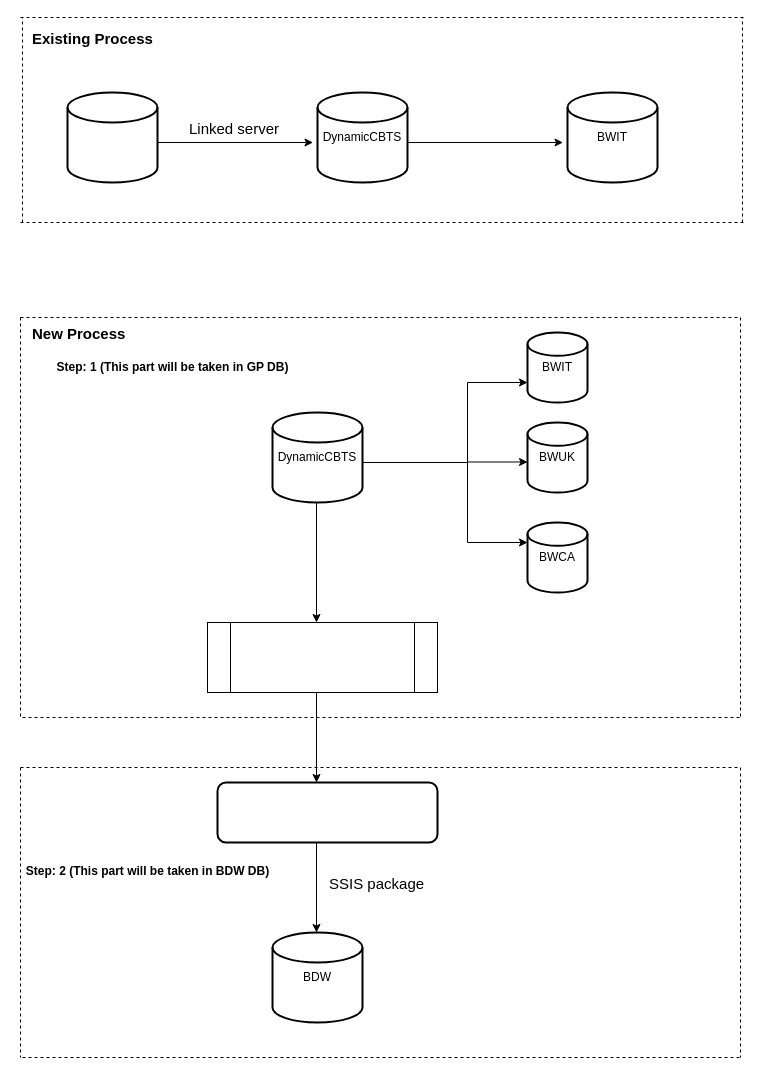
Some shapes in this 763 by 1076 pixel diagram are drawn without their labels. Each missing label, with the centre of its shape:
"BDWLoad" goes at point 112,137.
"FTP Path" goes at point 327,812.
"SQL/SSIS job will create CSV file" goes at point 322,657.
